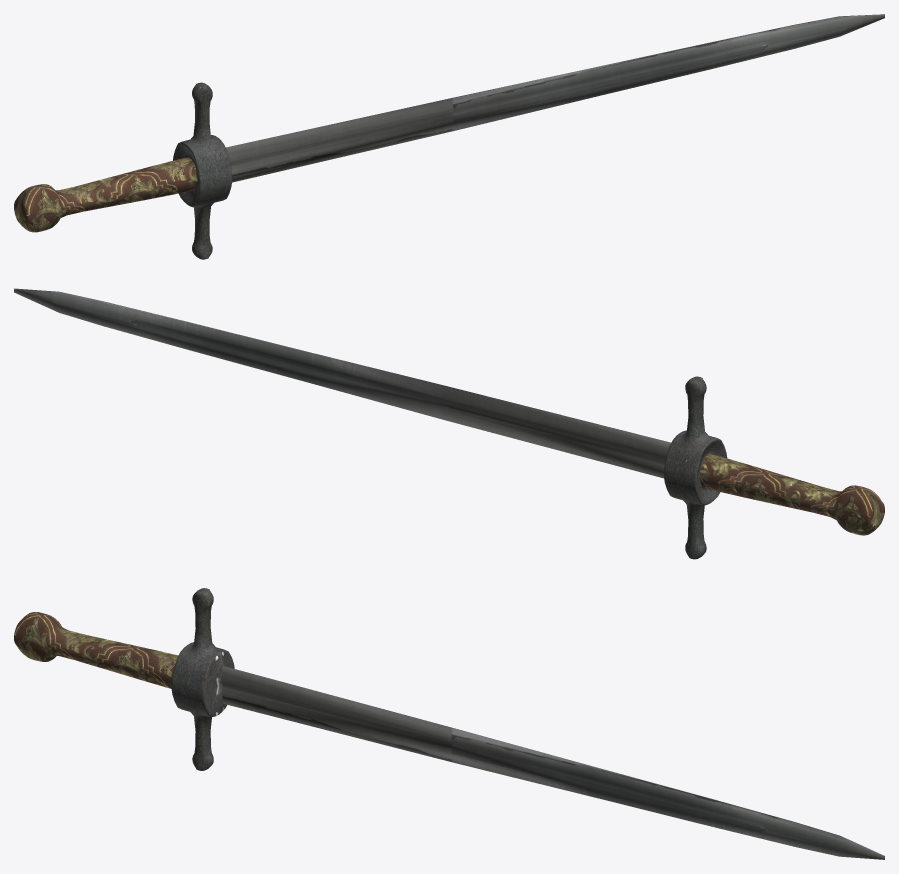
The model's file is sword2.fbx.
3 renders of one model, top to bottom at view 1: azimuth 30°, elevation 25°; view 2: azimuth 150°, elevation 25°; view 3: azimuth 330°, elevation 25°, orthographic. The views are drawn at different scales.
Parts seen in each view (by area): view 1: pCube1; view 2: pCube1; view 3: pCube1.
Part boxes in pixels (x1,y1,x2,y2): pCube1: (14, 14, 884, 259); pCube1: (14, 288, 884, 559); pCube1: (14, 588, 884, 859).
Size of the model in its own units: 20.75 by 4.03 by 1.26.
